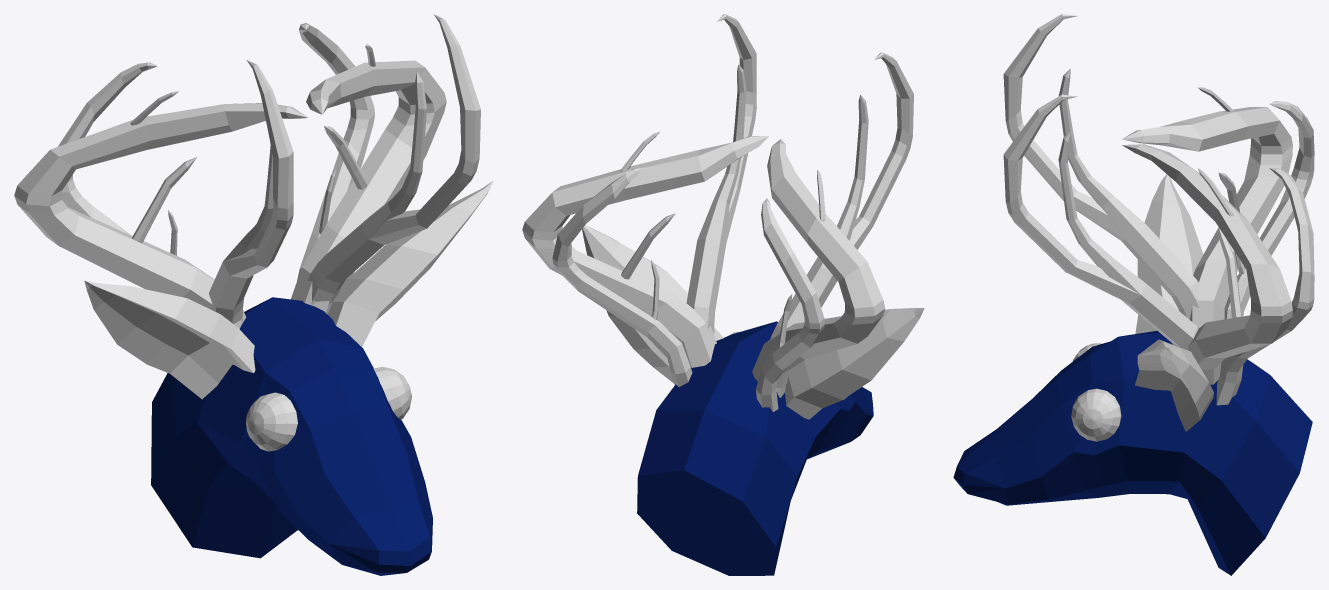
The model's file is deer head.fbx.
The picture shows the model from 3 angles, left to right: view 1: azimuth 30°, elevation 25°; view 2: azimuth 150°, elevation 25°; view 3: azimuth 270°, elevation 25°; orthographic projection. The views are drawn at different scales.
Parts seen in each view (by area): view 1: deerhead; view 2: deerhead; view 3: deerhead.
Part boxes in pixels (x1,y1,x2,y2): deerhead: (14,14,493,575); deerhead: (522,14,924,575); deerhead: (953,14,1314,575).
Bounding box in the file's own units: 0.4742 × 0.6265 × 0.3993.
